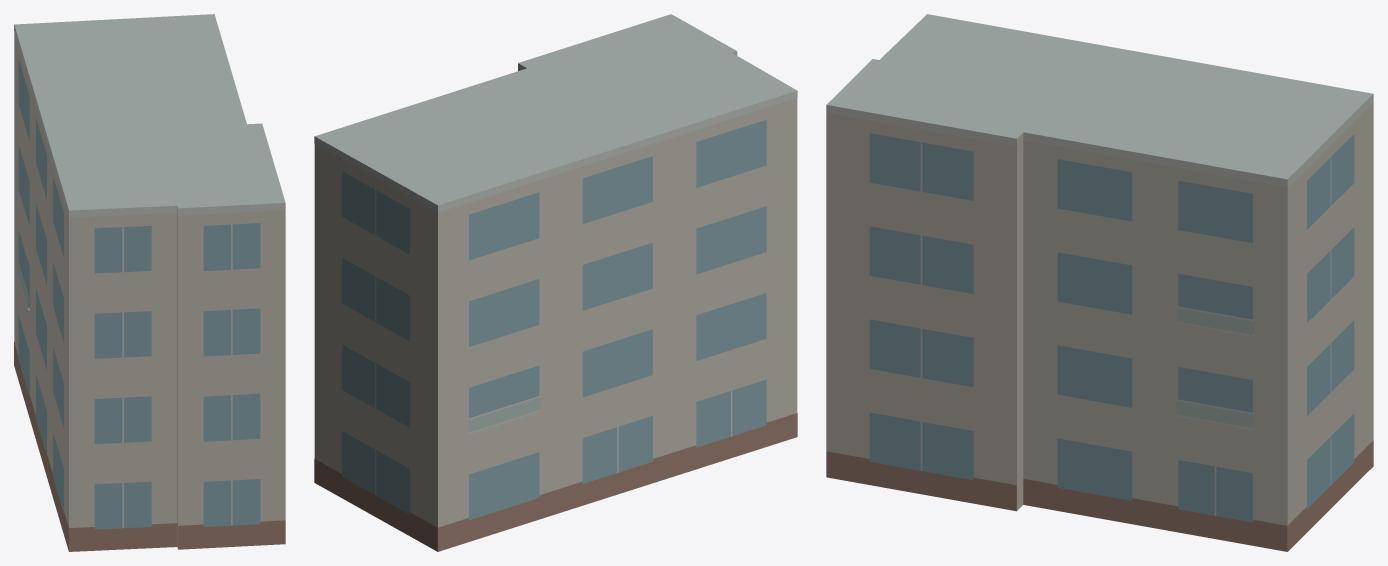
File: survey-upis-32695718.glb
3 views of the same model, side by side, from view 1: azimuth 30°, elevation 25°; view 2: azimuth 150°, elevation 25°; view 3: azimuth 270°, elevation 25° (orthographic). The views are drawn at different scales.
Parts seen in each view (by area): view 1: survey-upis-32695718.tmp; view 2: survey-upis-32695718.tmp; view 3: survey-upis-32695718.tmp.
Boxes of the visible parts, left/top/right/bottom form: survey-upis-32695718.tmp: left=14, top=14, right=285, bottom=551; survey-upis-32695718.tmp: left=314, top=14, right=797, bottom=551; survey-upis-32695718.tmp: left=826, top=14, right=1373, bottom=551.
Size of the model in its own units: 11.06 by 11.6 by 15.45.
